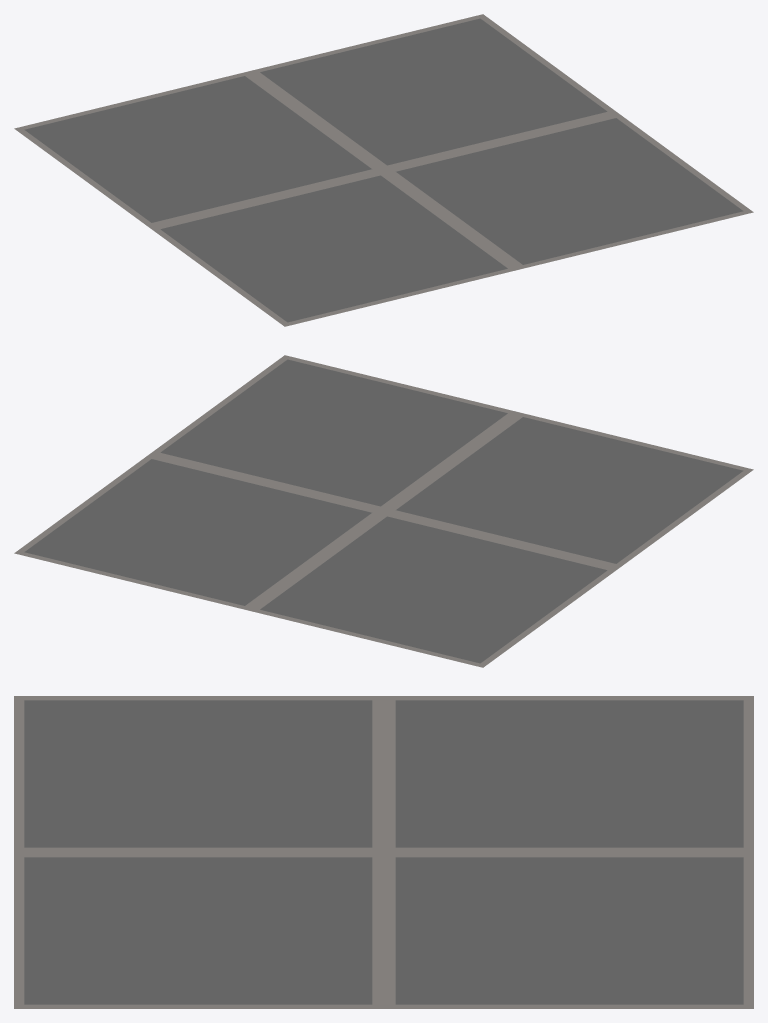
The model's file is Tile_new.fbx.
The picture shows the model from 3 angles, top to bottom: view 1: azimuth 30°, elevation 25°; view 2: azimuth 150°, elevation 25°; view 3: azimuth 270°, elevation 25°; orthographic projection. The views are drawn at different scales.
Parts seen in each view (by area): view 1: SI_Env_Floor_02; view 2: SI_Env_Floor_02; view 3: SI_Env_Floor_02.
Boxes of the visible parts, x1,y1,x2,y2 form: SI_Env_Floor_02: (14, 14, 753, 326); SI_Env_Floor_02: (14, 355, 753, 667); SI_Env_Floor_02: (14, 696, 753, 1008).
Bounding box in the file's own units: 5 × 8.15e-07 × 5.
Materials: 1 (1 with a texture image).
